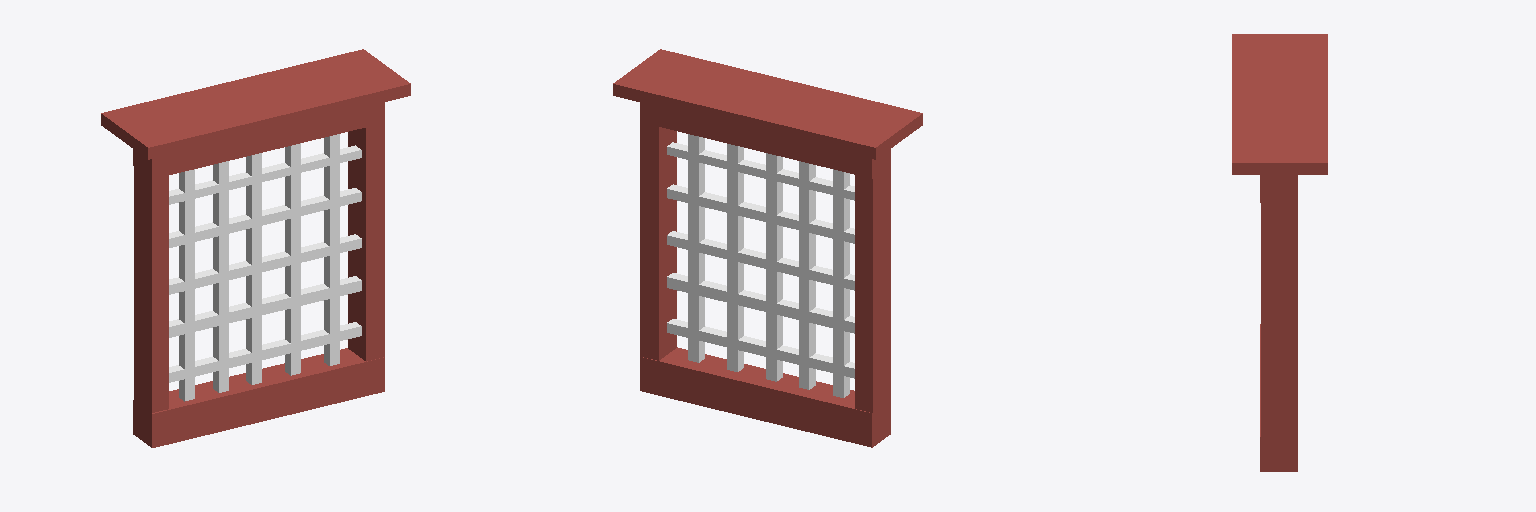
File: borderfence-small.obj
3 renders of one model, left to right at view 1: azimuth 30°, elevation 25°; view 2: azimuth 150°, elevation 25°; view 3: azimuth 270°, elevation 25°, orthographic.
Parts seen in each view (by area): view 1: top, frame_2, frame_1, frame, frame_3, Cube_1_4, Cube_1_2, Cube_1, Cube_1_1, Cube_1_3, Cube_2_4, Cube_2_3 (+3 smaller); view 2: top, frame_2, frame_1, frame, frame_3, Cube_1, Cube_1_2, Cube_1_3, Cube_1_4, Cube_1_1, Cube_2_4, Cube_2 (+3 smaller); view 3: top, frame, frame_2.
Boxes of the visible parts, <box> form: top: <box>101,49,410,159</box>; frame_2: <box>133,348,384,447</box>; frame_1: <box>134,150,168,434</box>; frame: <box>348,123,384,361</box>; frame_3: <box>133,102,384,179</box>; Cube_1_4: <box>324,134,339,365</box>; Cube_1_2: <box>246,153,261,384</box>; Cube_1: <box>179,169,194,401</box>; Cube_1_1: <box>213,161,228,392</box>; Cube_1_3: <box>285,143,300,375</box>; Cube_2_4: <box>169,276,361,337</box>; Cube_2_3: <box>169,234,361,294</box>; top: <box>613,49,922,159</box>; frame_2: <box>640,347,890,447</box>; frame_1: <box>855,149,890,434</box>; frame: <box>640,122,676,360</box>; frame_3: <box>640,103,872,178</box>; Cube_1: <box>833,169,849,397</box>; Cube_1_2: <box>766,153,782,381</box>; Cube_1_3: <box>727,144,743,371</box>; Cube_1_4: <box>688,134,704,362</box>; Cube_1_1: <box>799,161,815,389</box>; Cube_2_4: <box>667,273,854,333</box>; Cube_2: <box>667,319,854,378</box>; top: <box>1232,34,1327,174</box>; frame: <box>1261,178,1297,458</box>; frame_2: <box>1260,324,1297,471</box>.
Bounding box in the file's own units: 3.62 × 4.15 × 1.14.